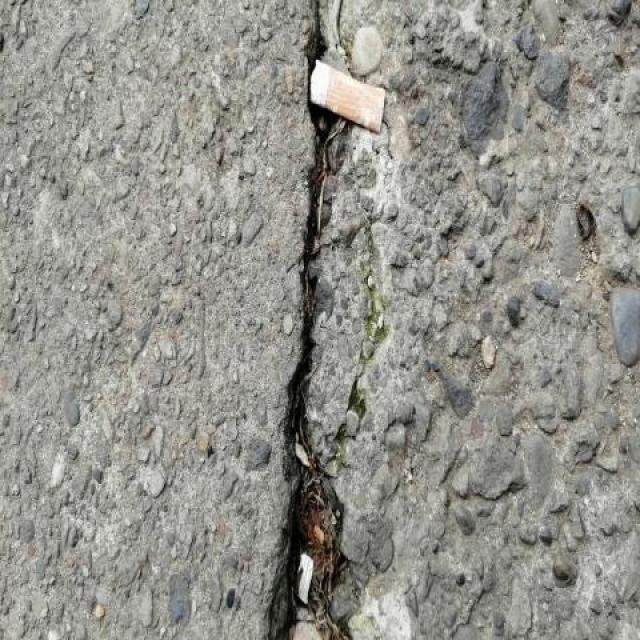non-organic waste: (304, 56, 392, 139)
